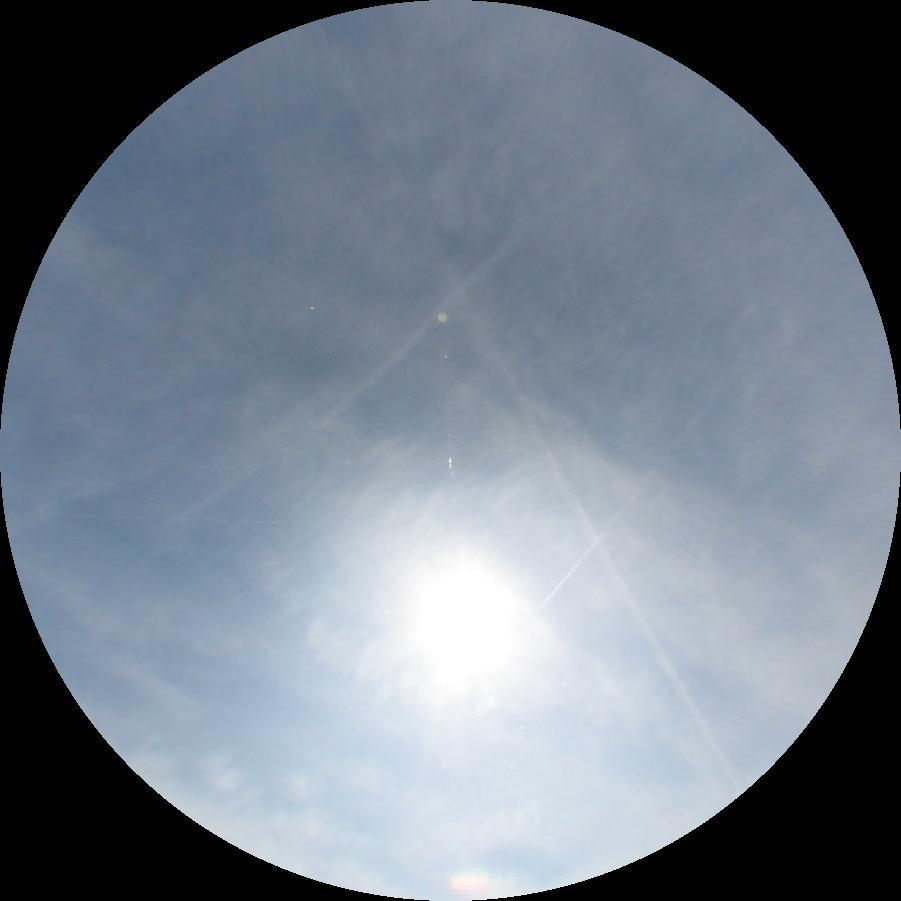contrail old: (304, 17, 748, 801)
contrail veryold: (163, 198, 569, 525)
contrail young: (536, 431, 688, 614)
sun: (406, 559, 523, 691)
